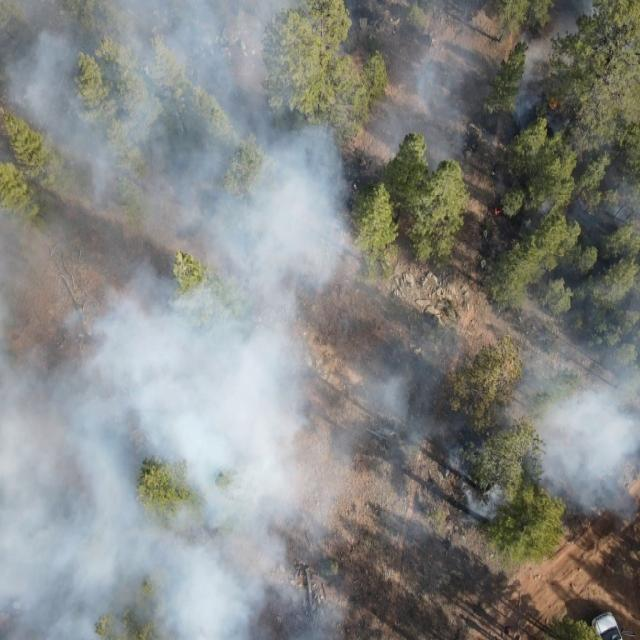fire: (546, 98, 560, 109), (491, 206, 502, 216)
smoke: (1, 1, 377, 640), (377, 258, 640, 572), (377, 0, 640, 254)
